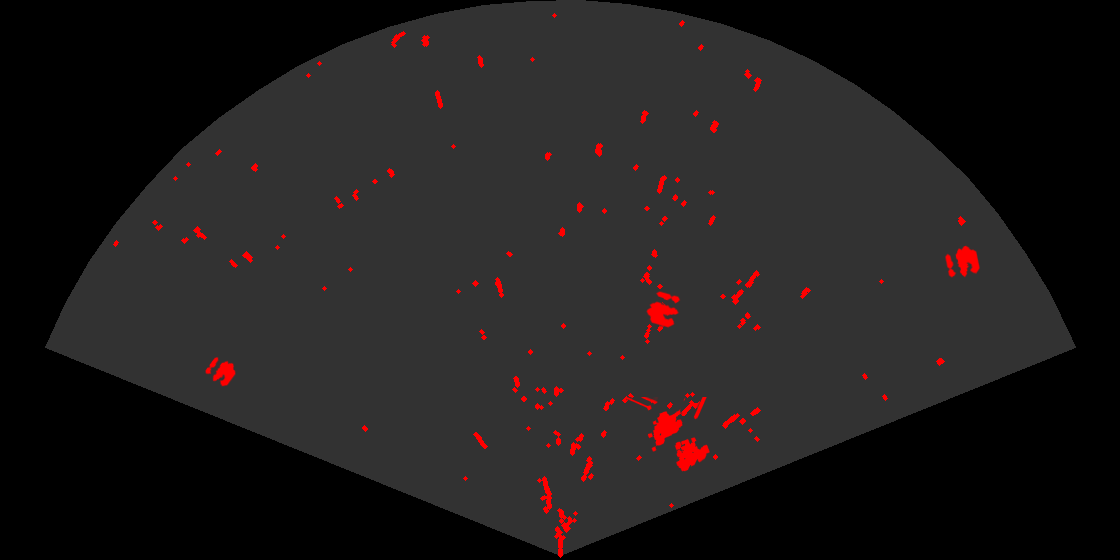ball: (645, 290, 682, 329), (943, 244, 981, 279), (204, 355, 237, 388)
cage: (626, 397, 711, 473)
